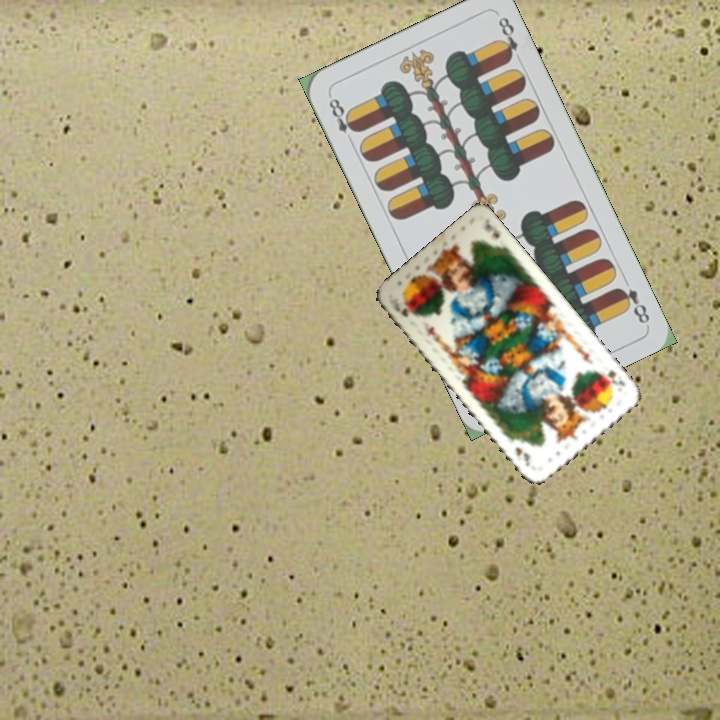E8: (324, 91, 361, 147), (612, 283, 652, 327)
SK: (598, 366, 628, 389), (389, 298, 417, 320)
